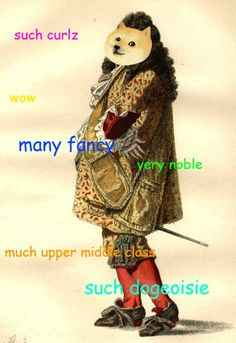doge: (100, 22, 150, 65)
